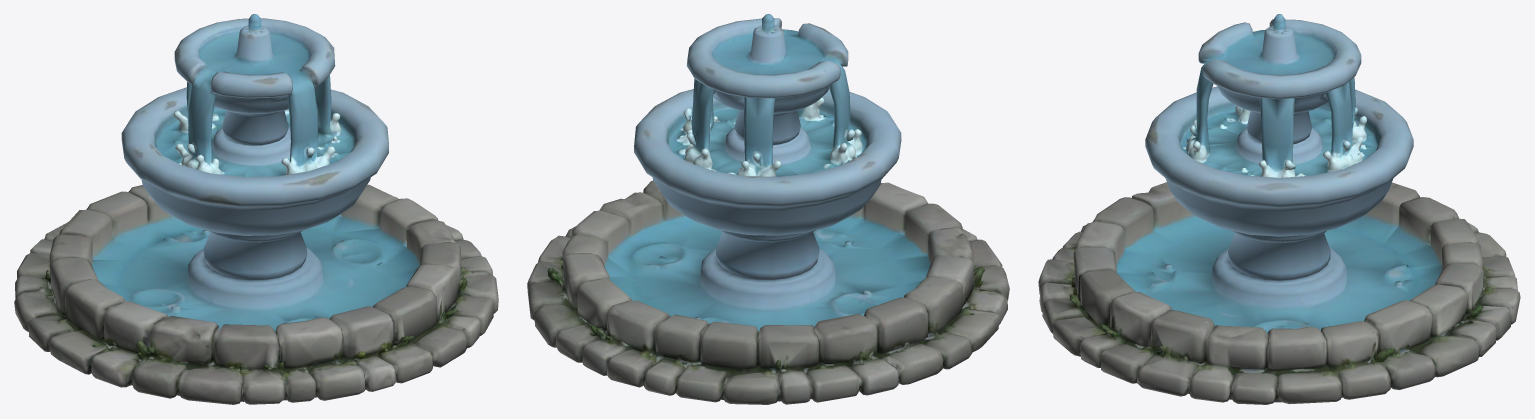
Rendered from fountain.glb.
The picture shows the model from 3 angles, left to right: view 1: azimuth 30°, elevation 25°; view 2: azimuth 150°, elevation 25°; view 3: azimuth 270°, elevation 25°; orthographic projection.
Visible parts, largest first — view 1: tripo_node_a5597d78-117b-4b83-b898-34d9c955c1d4; view 2: tripo_node_a5597d78-117b-4b83-b898-34d9c955c1d4; view 3: tripo_node_a5597d78-117b-4b83-b898-34d9c955c1d4.
Boxes of the visible parts, x1,y1,x2,y2 form: tripo_node_a5597d78-117b-4b83-b898-34d9c955c1d4: (14, 14, 498, 404); tripo_node_a5597d78-117b-4b83-b898-34d9c955c1d4: (527, 14, 1009, 404); tripo_node_a5597d78-117b-4b83-b898-34d9c955c1d4: (1038, 14, 1520, 404).
Bounding box in the file's own units: 0.9781 × 0.6565 × 0.9742.
Materials: 1 (1 with a texture image).
